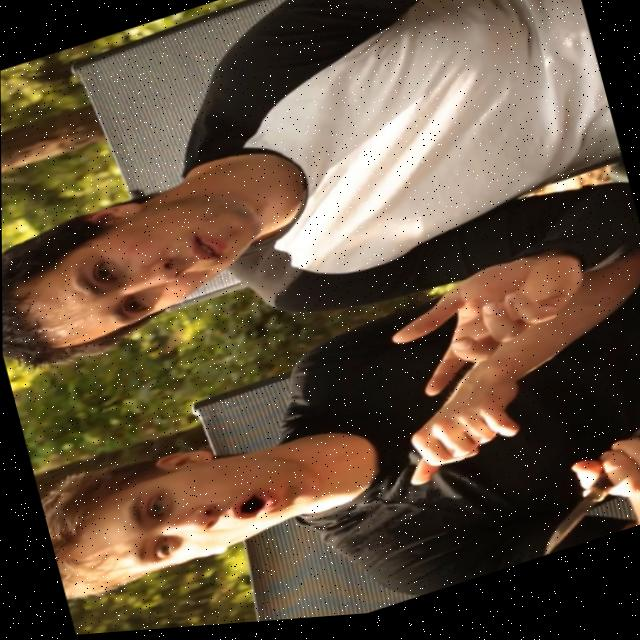knife: (502, 421, 640, 570)
